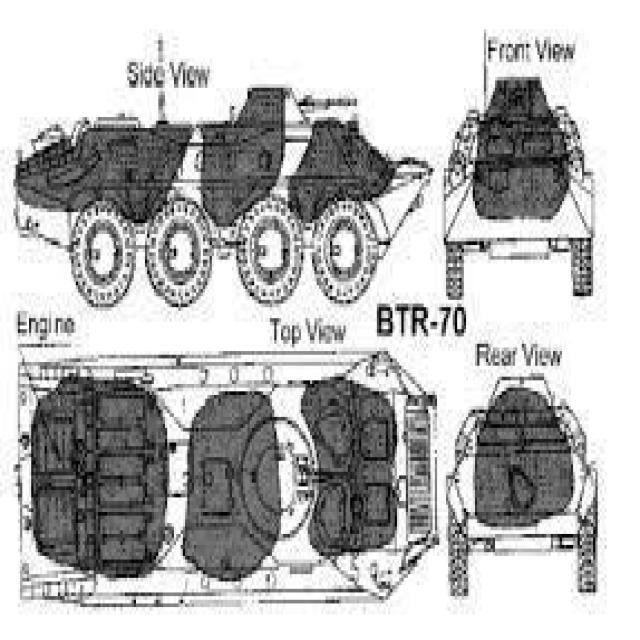Tanks: (1, 313, 434, 609), (22, 59, 415, 307), (415, 338, 622, 627), (432, 48, 606, 344)
